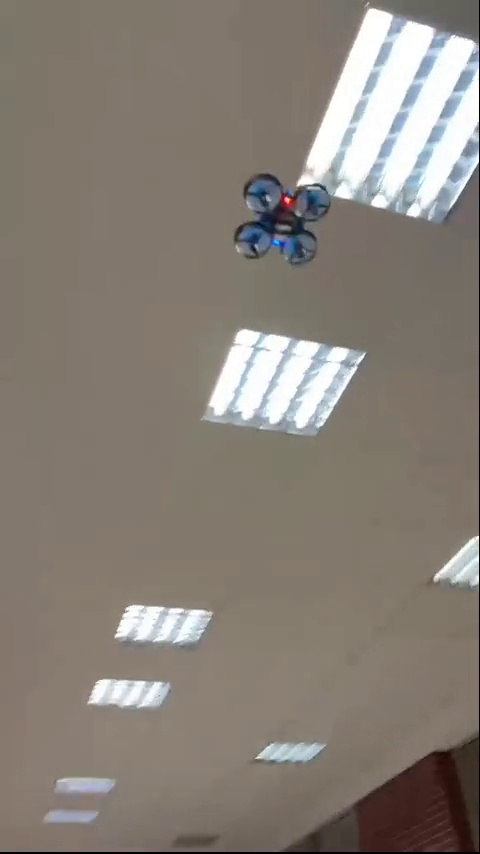drone: (233, 175, 329, 263)
